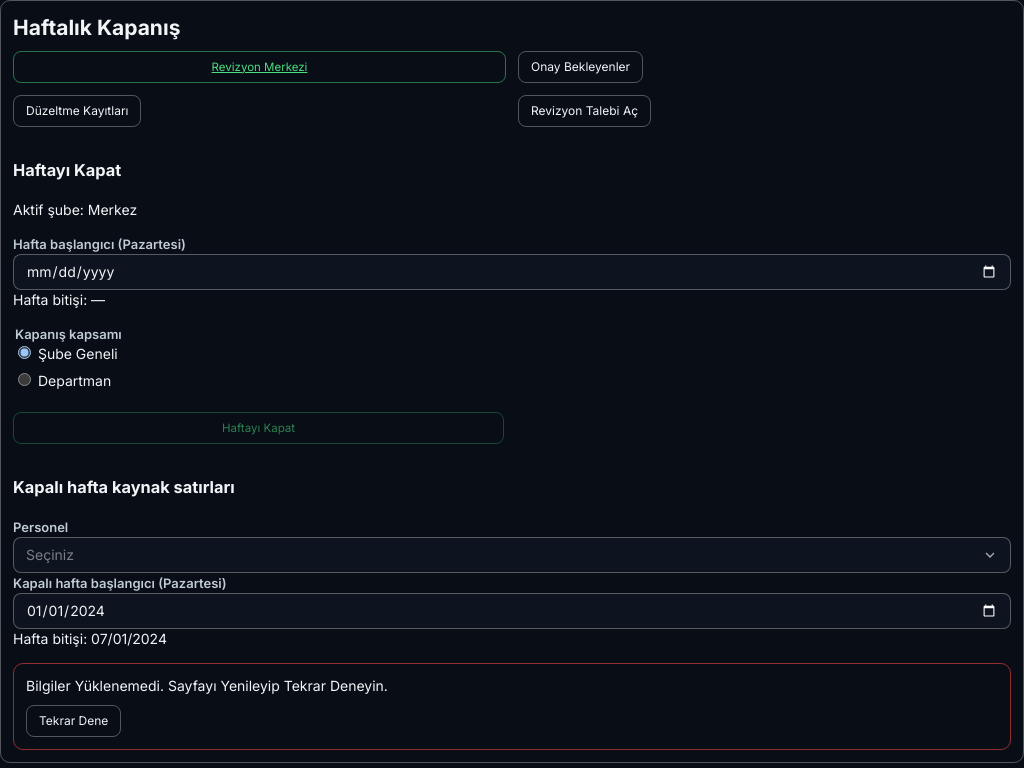
Test: HaftalikKapanisClosePanel UI › closes idle confirm dialog when active branch changes without POST
Expected: the button with test id "hk-close-open" is shown, [13,412,504,444]
Type "2026-04-06" into the date field with test id "hk-close-hafta-baslangic" at coordinates (512, 272), box [13,254,1011,290]
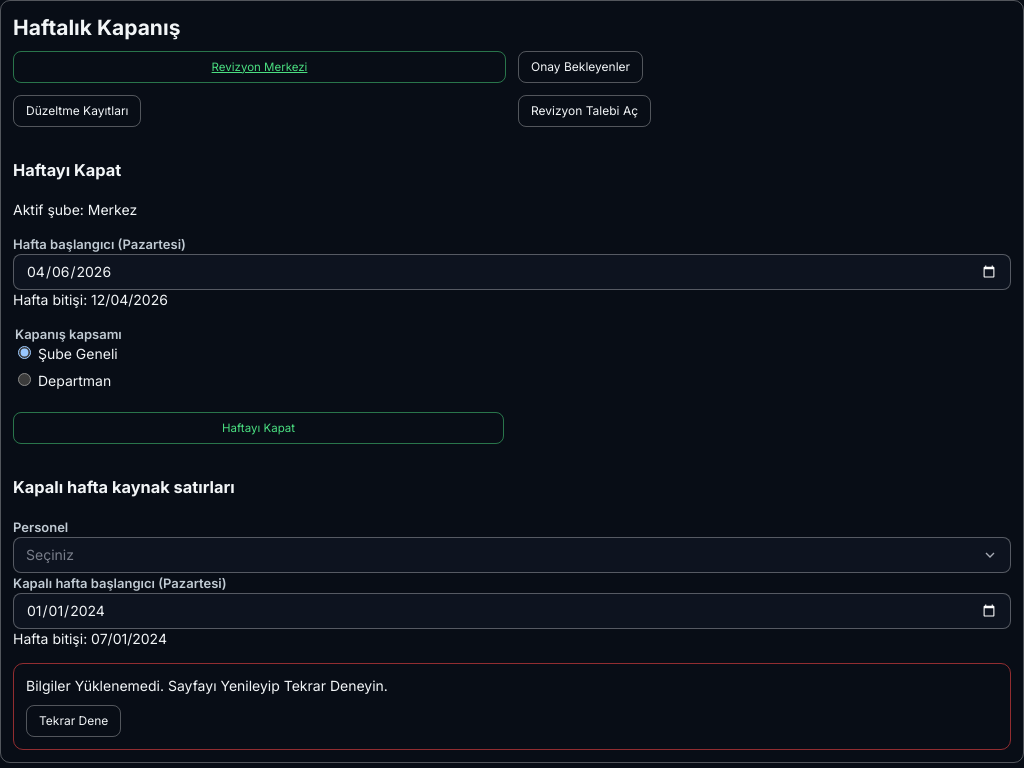
Expected: the text with test id "hk-close-hafta-bitis" shows "12/04/2026", [91,291,168,308]
Click the button with test id "hk-close-open" at coordinates (258, 428), box [13,412,504,444]
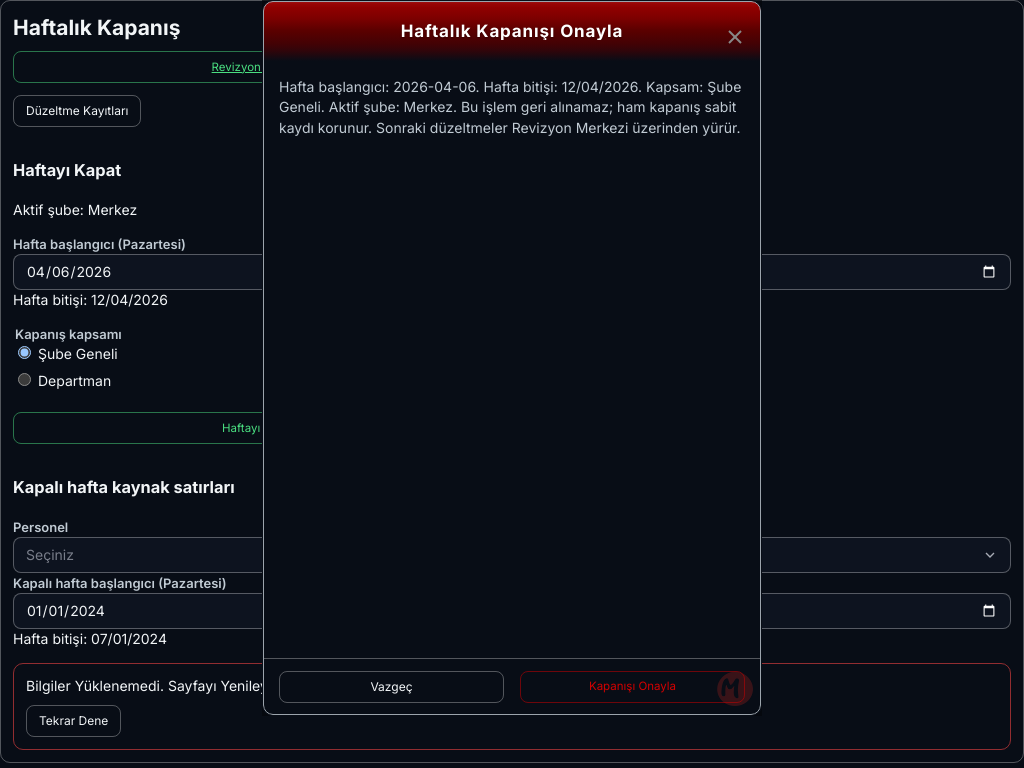
Expected: the element with test id "hk-close-confirm-dialog" is shown, [279,78,741,136]
